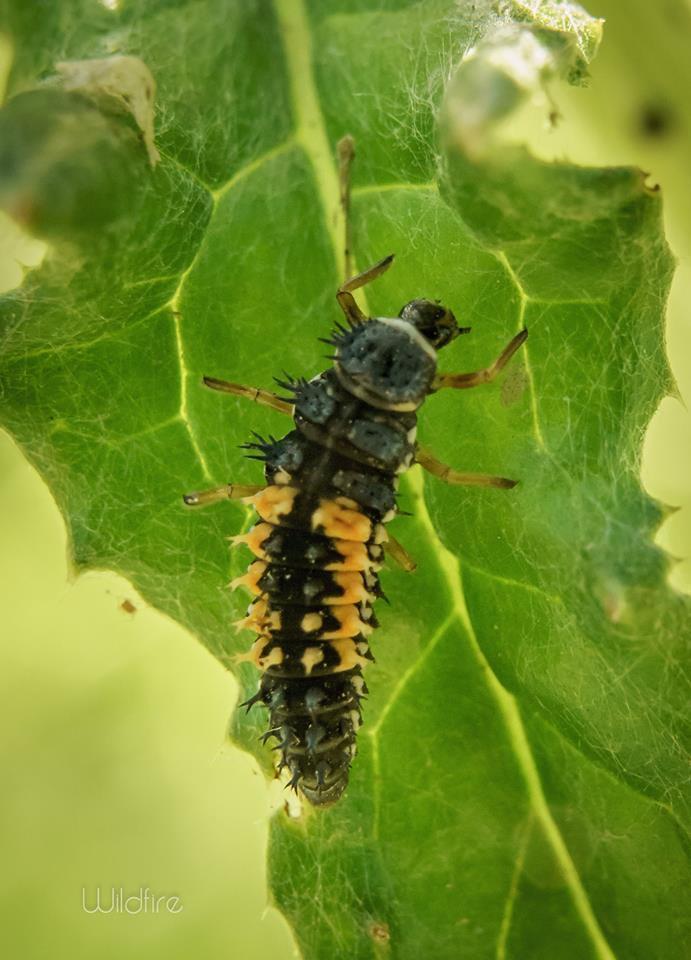ladybug: (184, 254, 534, 811)
